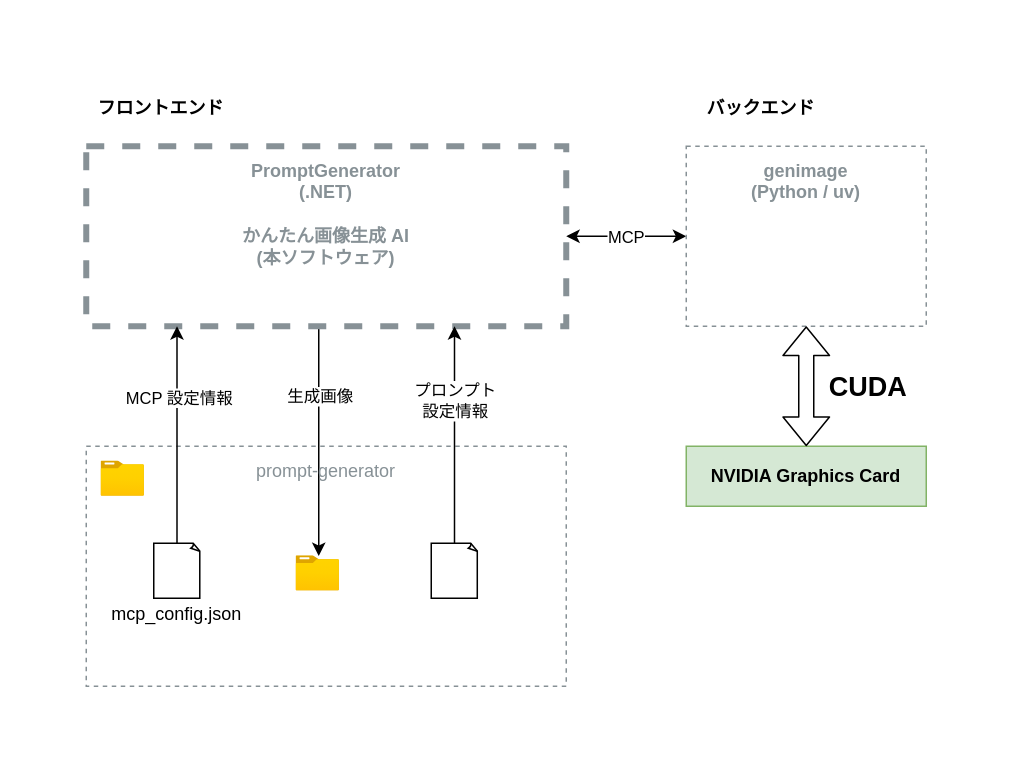
Some shapes in this 1011 by 771 pixel diagram are drawn without their labels. Each missing label, with the centre of its shape:
images: the point at 317,573
prompts.json: the point at 454,570
